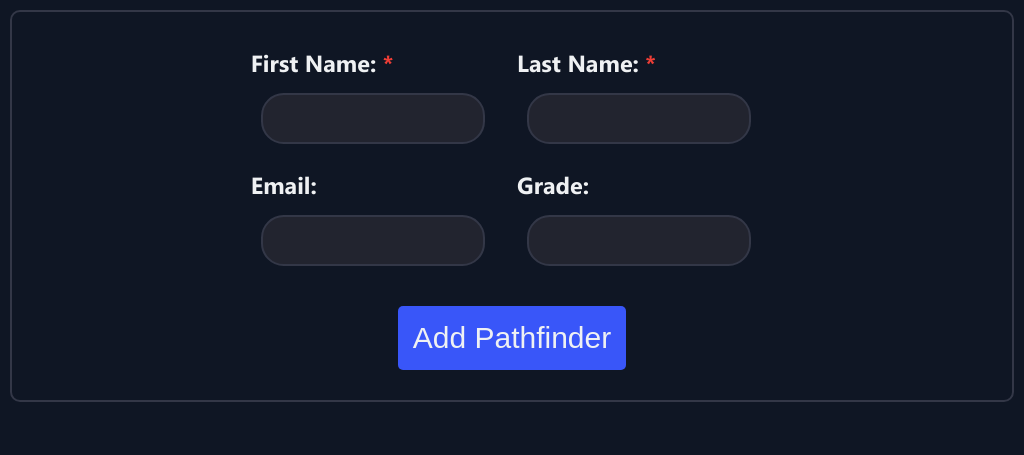
Scenario: CreatePathfinderForm › Form validation › should show error when last name is empty
In the field below "First Name:": (373, 118) [261, 93, 485, 144], type "John"
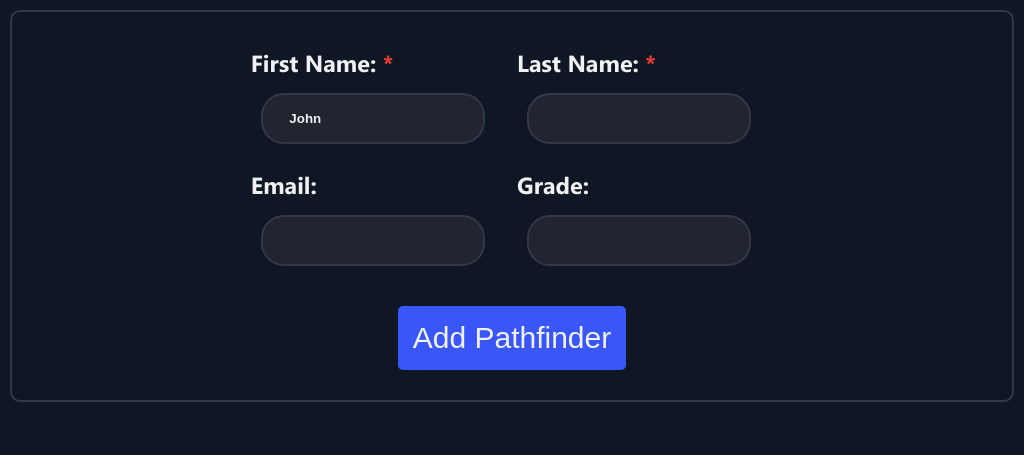
Submit the form, box [251, 42, 773, 370]
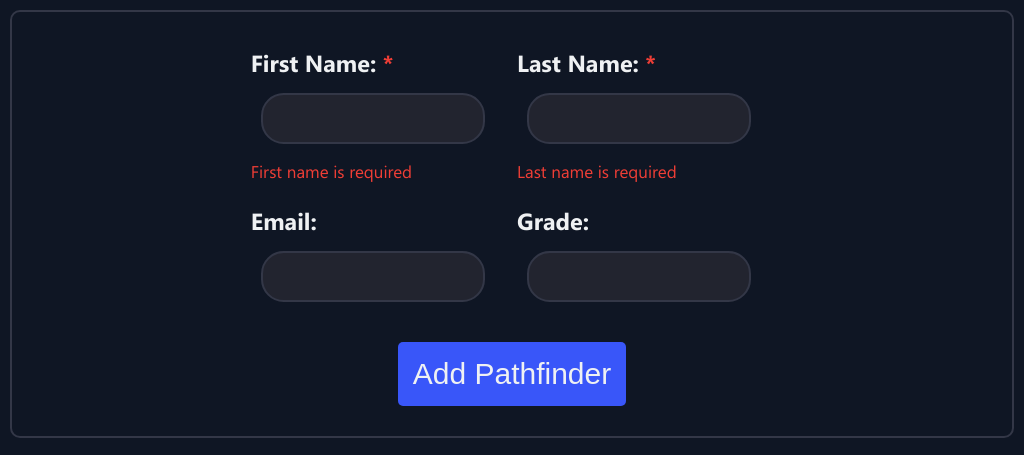
Now the text "Last name is required" is shown, box [517, 160, 677, 182]
